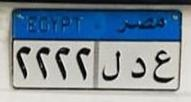2: (15, 42, 32, 82), (53, 45, 72, 80), (75, 44, 92, 81), (35, 44, 52, 81)
ain: (151, 46, 175, 85)
daal: (129, 55, 147, 82)
laam: (102, 47, 124, 83)
